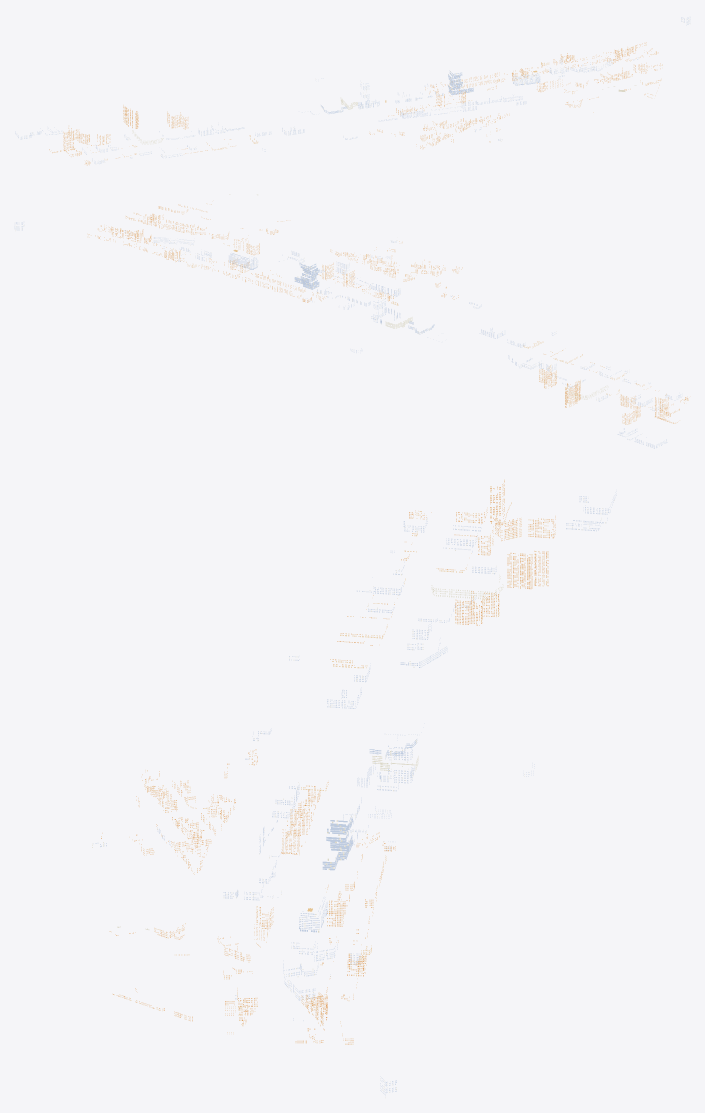
The model's file is buildings-charles-river-lights.glb.
The picture shows the model from 3 angles, top to bottom: view 1: azimuth 30°, elevation 25°; view 2: azimuth 150°, elevation 25°; view 3: azimuth 270°, elevation 25°; orthographic projection. The views are drawn at different scales.
Parts seen in each view (by area): view 1: buildings-charles-river-lights; view 2: buildings-charles-river-lights; view 3: buildings-charles-river-lights.
Boxes of the visible parts, <box> form: buildings-charles-river-lights: <box>15,17,690,165</box>; buildings-charles-river-lights: <box>14,194,688,448</box>; buildings-charles-river-lights: <box>92,479,616,1097</box>.
Bounding box in the file's own units: 2701 × 88.36 × 996.
